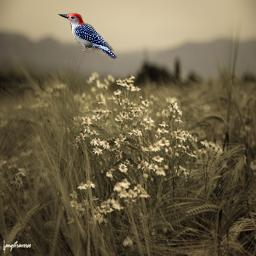Woodpecker: (58, 13, 117, 59)
